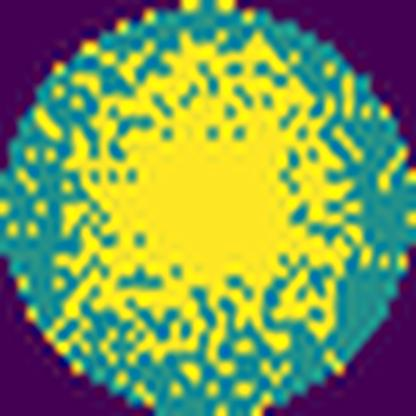Center: (58, 32, 358, 354)
